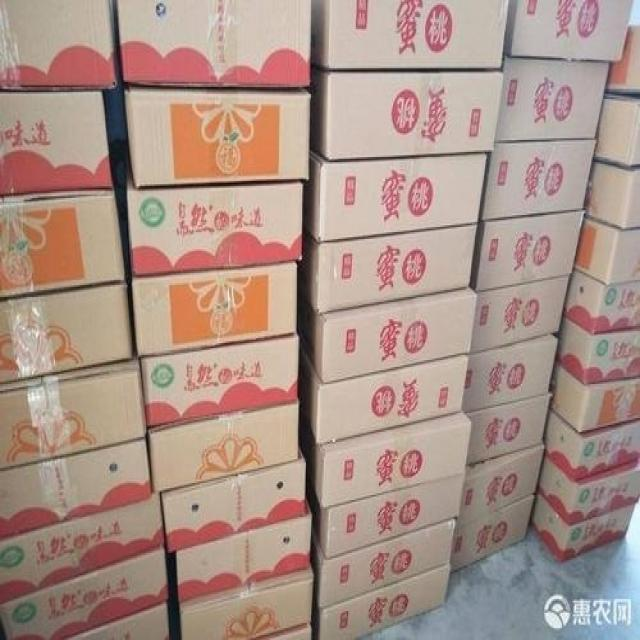box: (114, 179, 302, 282), (125, 86, 310, 187), (310, 64, 504, 158), (0, 493, 165, 602), (302, 147, 488, 240), (110, 2, 310, 88), (0, 353, 148, 469), (297, 219, 480, 312), (297, 286, 474, 381), (299, 412, 473, 507), (136, 336, 299, 436), (298, 352, 471, 445), (127, 260, 298, 352), (0, 437, 153, 538), (0, 548, 168, 638), (146, 402, 300, 495), (310, 0, 511, 71), (160, 458, 307, 554), (0, 190, 127, 300), (0, 284, 136, 382), (166, 515, 312, 605), (306, 476, 464, 559), (312, 518, 459, 607), (1, 89, 113, 197), (0, 0, 118, 90), (168, 568, 313, 638), (495, 56, 611, 140), (312, 569, 450, 638), (480, 139, 599, 218), (474, 209, 585, 285), (462, 329, 563, 412), (472, 270, 574, 352), (505, 0, 634, 62), (529, 493, 639, 563), (536, 453, 639, 526), (450, 492, 536, 573), (545, 407, 639, 479), (549, 362, 639, 435), (459, 445, 546, 518), (463, 395, 551, 467), (557, 320, 639, 388), (565, 268, 639, 337), (575, 217, 639, 284), (585, 156, 639, 230), (596, 95, 639, 167), (605, 27, 638, 95)
